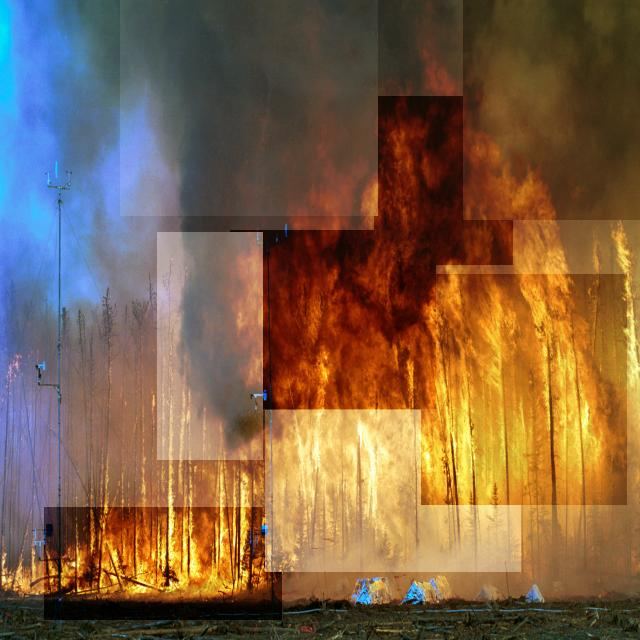Fire: (421, 274, 627, 505), (265, 410, 521, 572), (230, 230, 436, 409), (44, 507, 282, 620), (374, 96, 513, 265)
Smoke: (120, 0, 378, 216), (463, 0, 640, 220), (157, 232, 263, 460)
